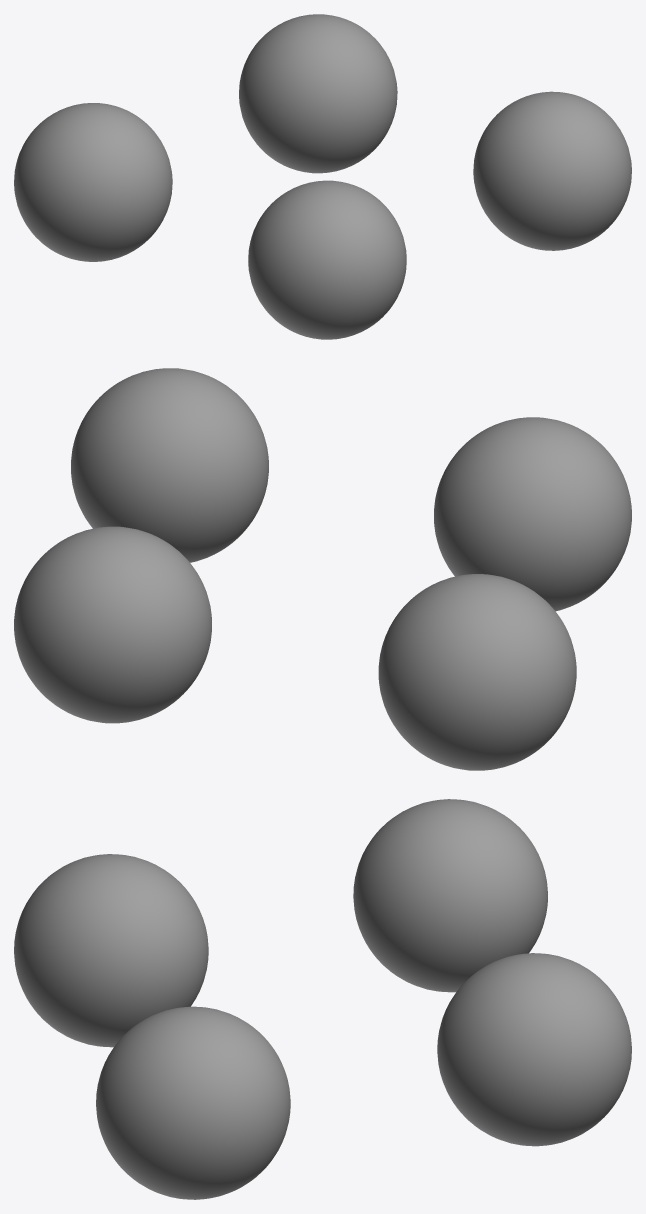
The model's file is fourMoons.glb.
The picture shows the model from 3 angles, top to bottom: view 1: azimuth 30°, elevation 25°; view 2: azimuth 150°, elevation 25°; view 3: azimuth 270°, elevation 25°; orthographic projection. The views are drawn at different scales.
Visible parts, largest first — view 1: mesh_id127, mesh_id133, mesh_id145, mesh_id139; view 2: mesh_id145, mesh_id133, mesh_id139, mesh_id127; view 3: mesh_id139, mesh_id145, mesh_id133, mesh_id127.
Part boxes in pixels (x1,y1,x2,y2): mesh_id127: [248, 180, 406, 339]; mesh_id133: [14, 103, 172, 261]; mesh_id145: [239, 14, 397, 173]; mesh_id139: [473, 91, 631, 250]; mesh_id145: [14, 526, 211, 723]; mesh_id133: [378, 574, 576, 770]; mesh_id139: [71, 368, 268, 562]; mesh_id127: [434, 417, 631, 611]; mesh_id139: [96, 1006, 290, 1199]; mesh_id145: [437, 953, 631, 1146]; mesh_id133: [353, 799, 547, 992]; mesh_id127: [14, 854, 208, 1047].
Bounding box in the file's own units: 0.3735 × 0.1061 × 0.3342.
4 materials, 4 textured.
